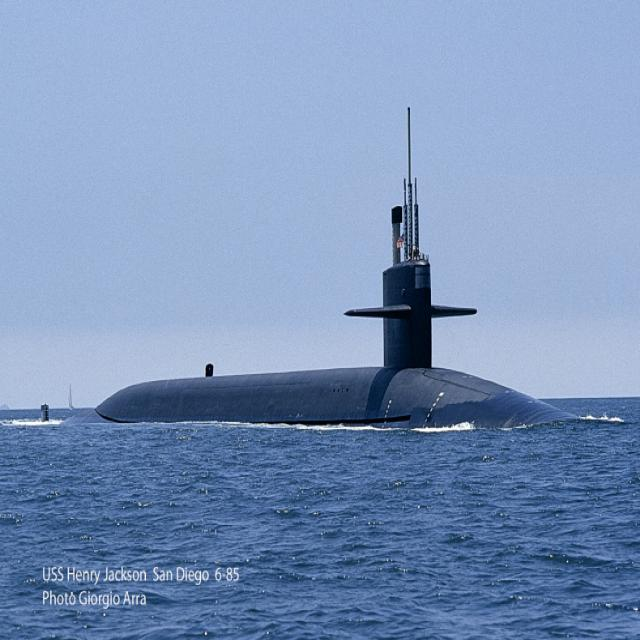submarine: (39, 94, 584, 426)
